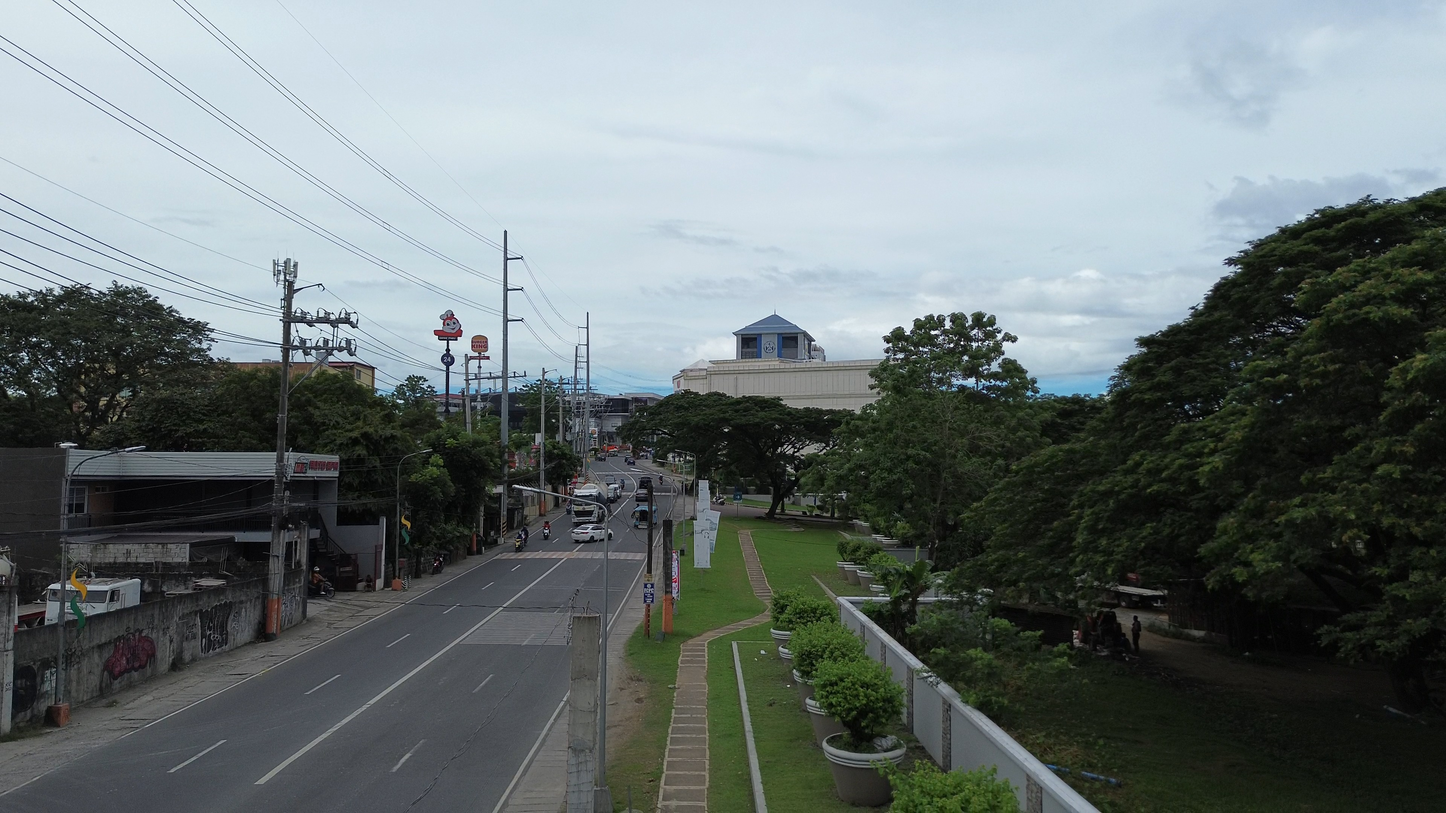car: (572, 524, 612, 542), (624, 457, 635, 465)
motorcycle: (309, 579, 334, 598), (514, 532, 526, 551), (432, 556, 444, 574), (541, 524, 550, 540)
vehicle: (64, 579, 140, 620), (570, 500, 604, 525), (632, 504, 656, 527), (607, 483, 621, 502), (638, 476, 651, 490), (542, 522, 550, 540), (604, 473, 616, 485)
